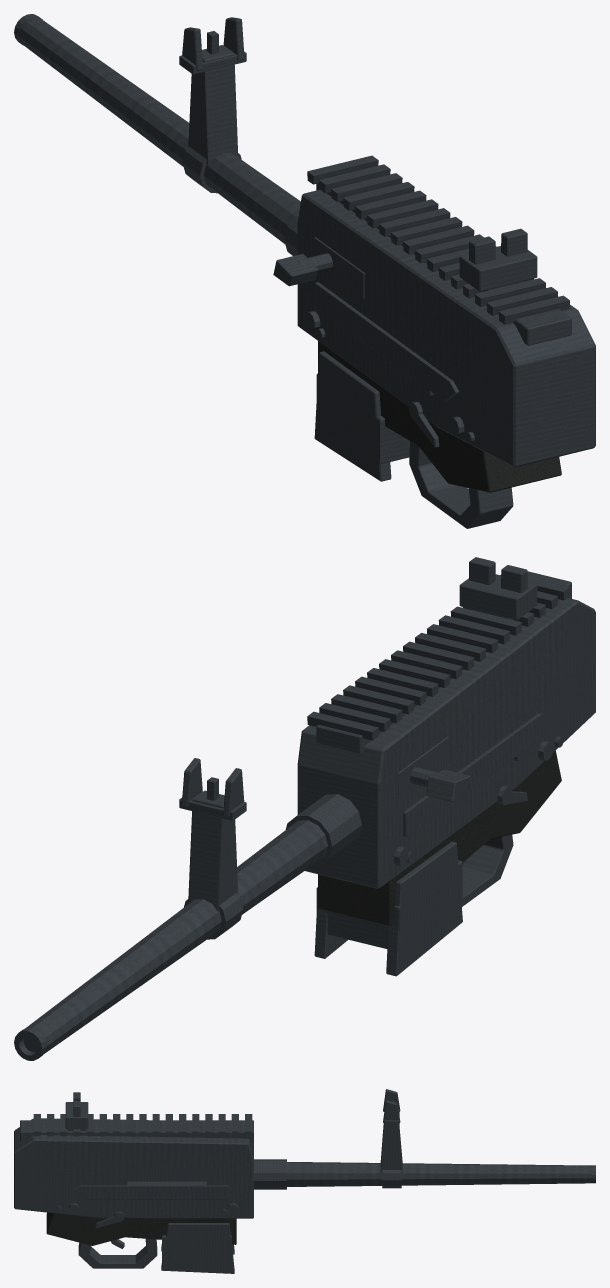
File: weapon_bren2.glb
3 renders of one model, top to bottom at view 1: azimuth 30°, elevation 25°; view 2: azimuth 150°, elevation 25°; view 3: azimuth 270°, elevation 25°, orthographic. The views are drawn at different scales.
Parts seen in each view (by area): view 1: body_LOD0, action_LOD0; view 2: body_LOD0, action_LOD0; view 3: body_LOD0.
Part boxes in pixels (x1,y1,x2,y2): body_LOD0: (14,14,595,528); action_LOD0: (273,237,364,299); body_LOD0: (14,557,595,1060); action_LOD0: (398,736,470,801); body_LOD0: (14,1089,595,1273).
Size of what is drawn, in the model's own units: 0.1455 by 0.3107 by 0.97.
1 material, 1 textured.
